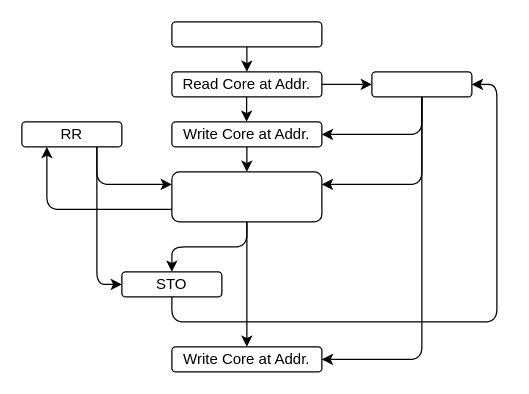
The diagram is 529 pixels wide and 394 high, and some of its shapes have lost their labels. Here are the shapes that lost their labels. From the top down, the box of each, then its label:
(171, 21, 322, 47): Advance Tape
(371, 71, 472, 97): Working
(171, 171, 322, 222): Execute Operation
